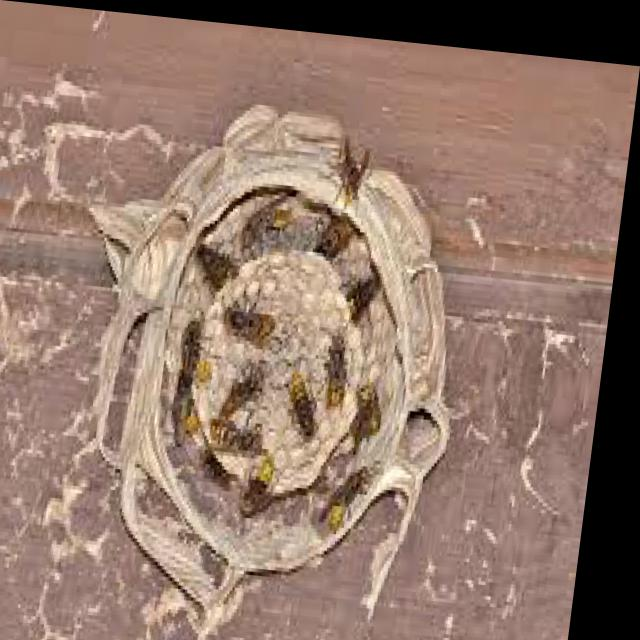Vespa Crabro: (207, 389, 294, 458), (322, 125, 390, 203), (170, 307, 234, 389), (326, 445, 395, 521), (245, 170, 312, 243), (175, 363, 220, 444), (258, 449, 310, 517), (231, 279, 287, 339), (194, 220, 238, 293), (295, 358, 331, 443), (324, 205, 366, 269), (362, 367, 398, 441), (330, 326, 358, 413), (355, 264, 396, 312)
